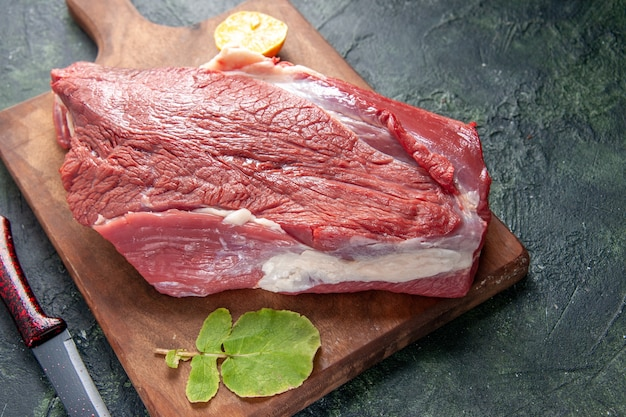knife: (0, 214, 113, 417)
